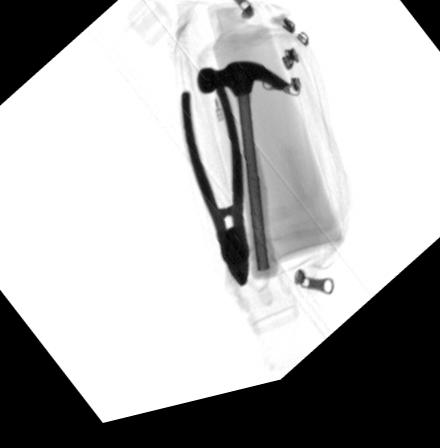Hammer: (195, 70, 289, 294)
Pliers: (180, 90, 250, 299)
